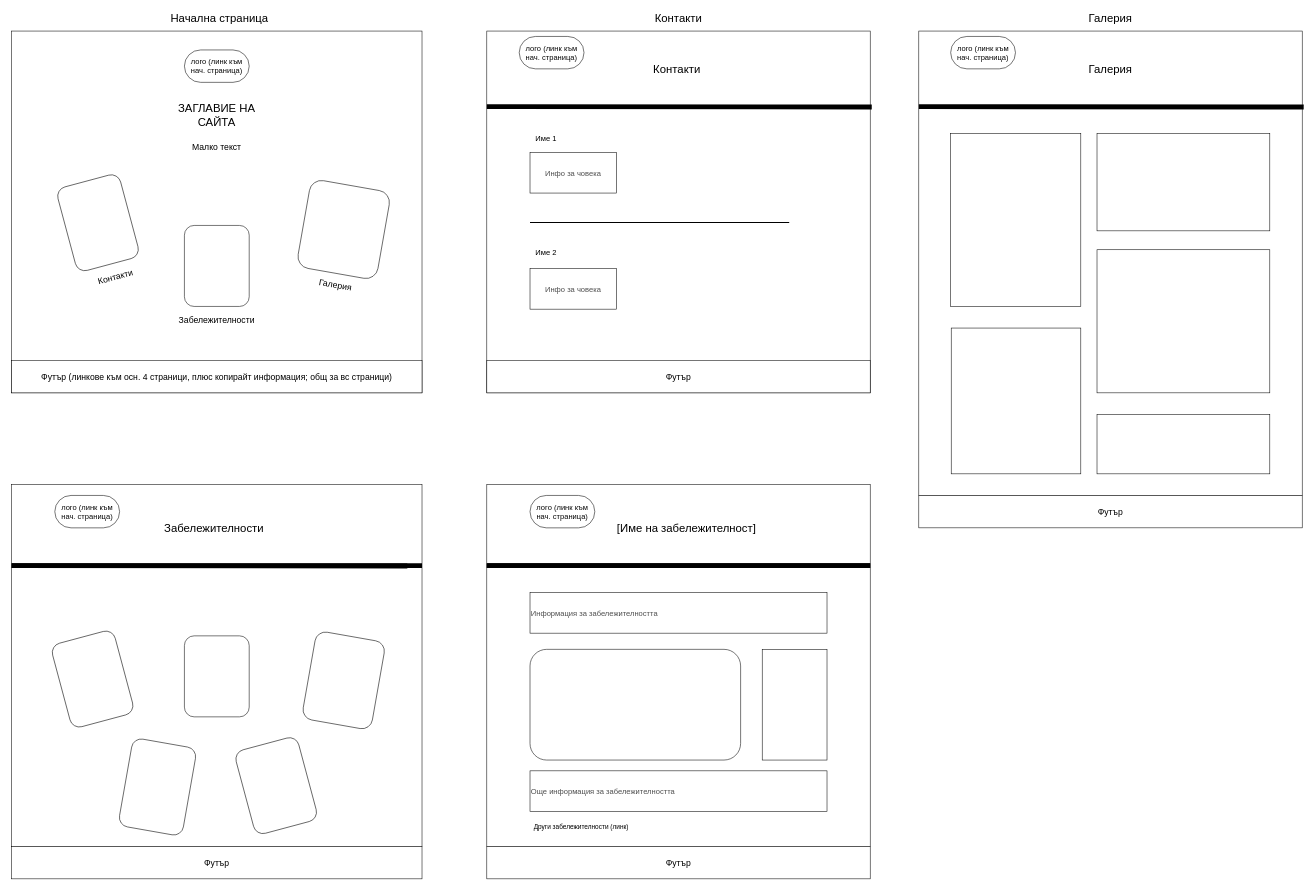
This 1316x888 diagram has some shape labels left out. The box of each missing label's shape, as (x1, y1, x2, y2) in pixels:
Снимка: (529, 649, 741, 760)
Списък с интересни факти или някаква друга глупост: (762, 649, 827, 760)
